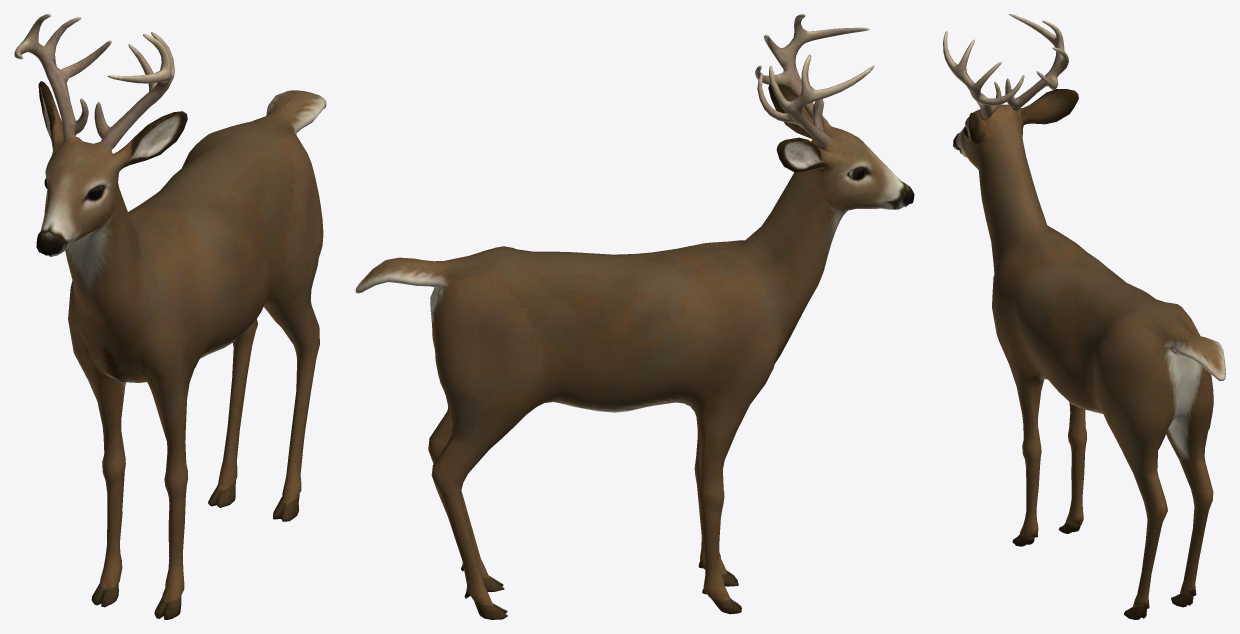
3 views of the same model, side by side, from view 1: azimuth 30°, elevation 25°; view 2: azimuth 150°, elevation 25°; view 3: azimuth 270°, elevation 25° (orthographic). The views are drawn at different scales.
Parts seen in each view (by area): view 1: Deer-lowP; view 2: Deer-lowP; view 3: Deer-lowP.
Part boxes in pixels (x1,y1,x2,y2): Deer-lowP: (14, 14, 326, 619); Deer-lowP: (355, 14, 914, 619); Deer-lowP: (943, 14, 1225, 619).
Bounding box in the file's own units: 5.69 × 7.48 × 3.96.
2 materials, 2 textured.
